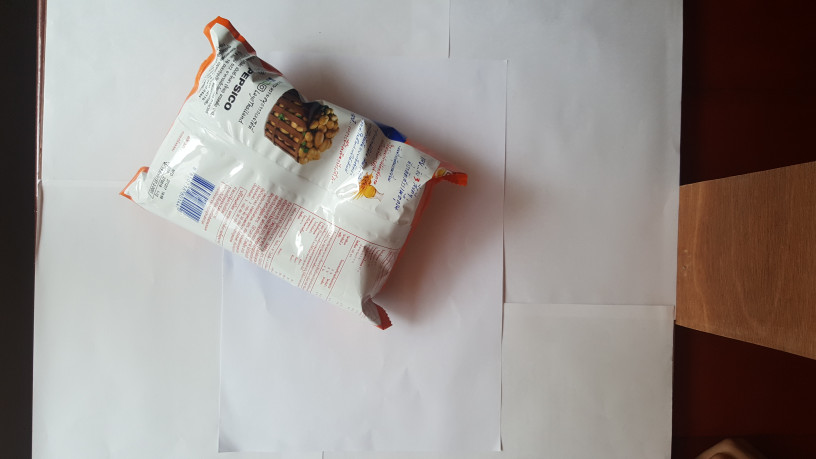lays-bbq: (110, 10, 471, 335)
